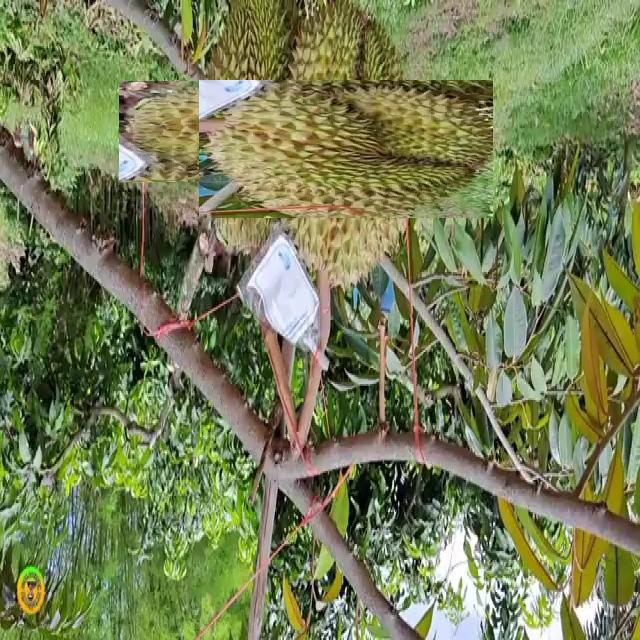durian: (238, 41, 455, 257), (159, 41, 339, 222)
